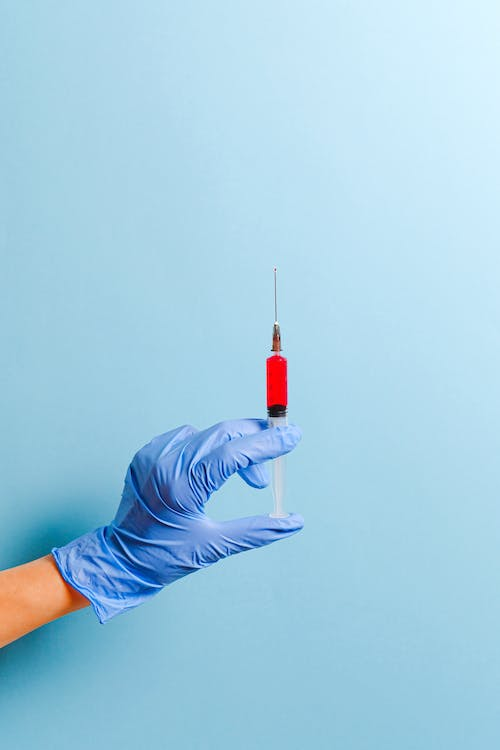blood: (263, 318, 291, 413)
